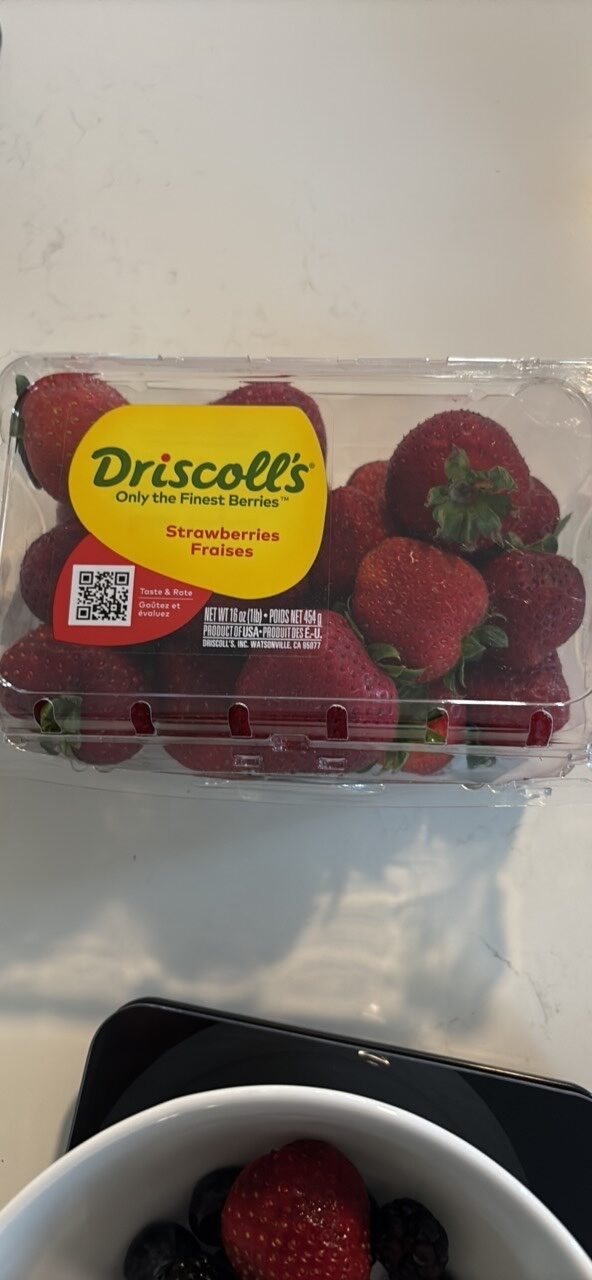Strawberries: (30, 64, 562, 1216)
